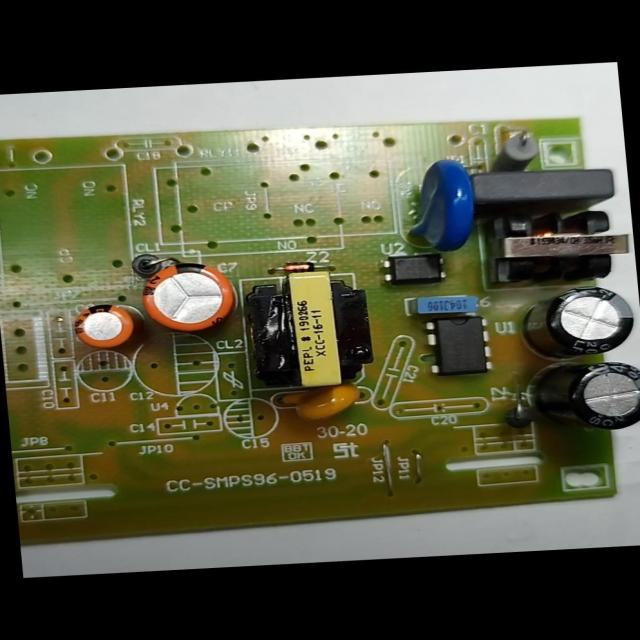Cap1: (135, 261, 238, 332)
Cap2: (70, 302, 135, 350)
Cap3: (518, 284, 640, 358)
Cap4: (530, 359, 640, 437)
MOSFET: (422, 315, 496, 375)
Mov: (401, 157, 480, 255)
Resistor: (482, 130, 542, 174)
Transformer: (235, 270, 374, 398), (482, 204, 636, 289)
